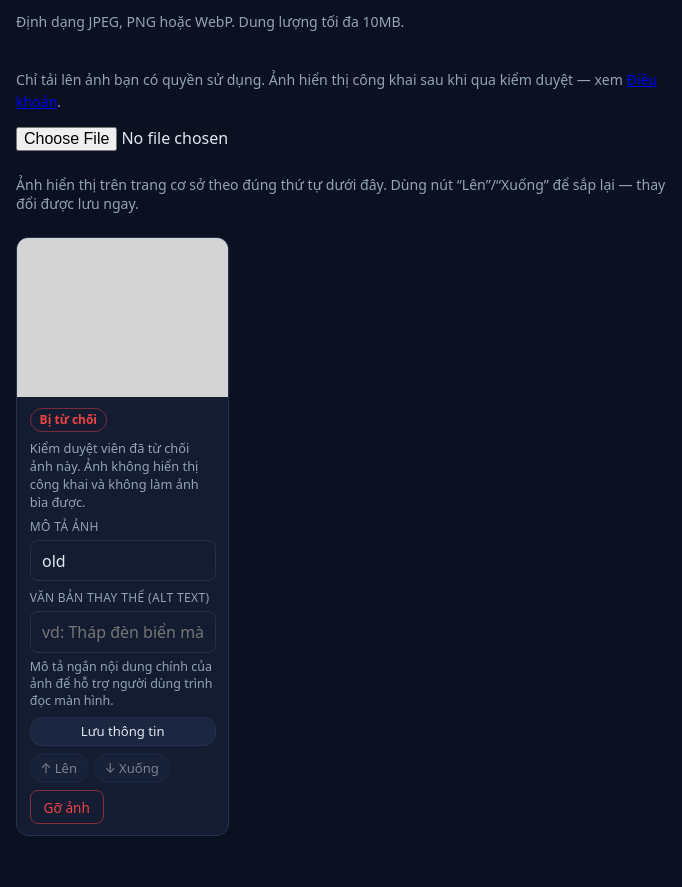
Test: PhotosView — phản hồi kiểm duyệt (ảnh bị từ chối) › server trả status MỚI (published) sau một thao tác -> thông điệp rejected biến mất
The width and height of the screenshot is (682, 887).
(page scrolled)
Expected: the text "Bị từ chối" is shown, [30, 408, 107, 432]
Click the button "Lưu thông tin" at (123, 731), box [30, 717, 216, 746]
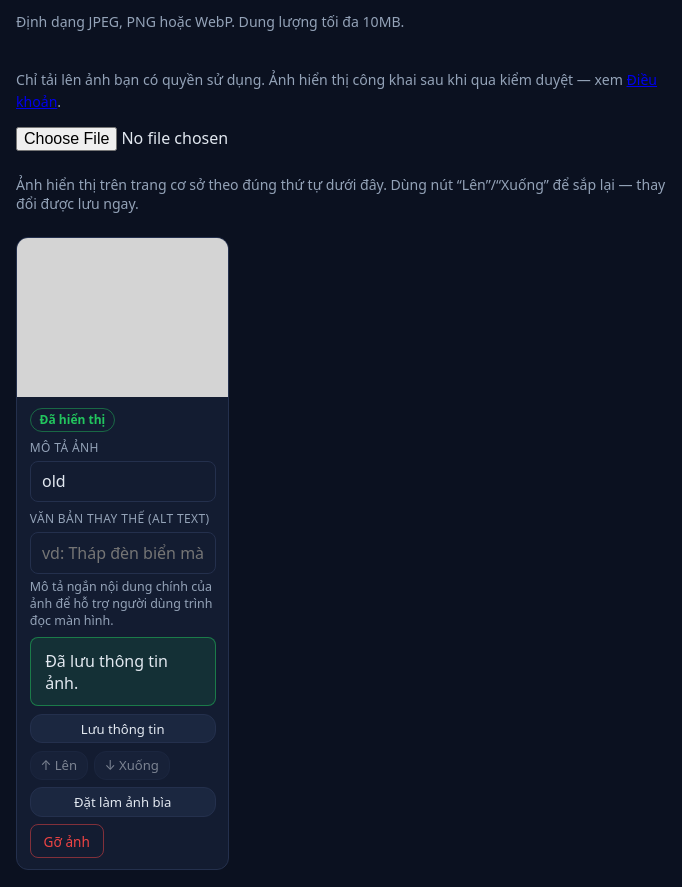
Expected: the text "Đã hiển thị" is shown, [30, 408, 115, 432]
Expected: the text "Bị từ chối" is gone
Expected: the text "Kiểm duyệt viên đã từ chối" is gone
